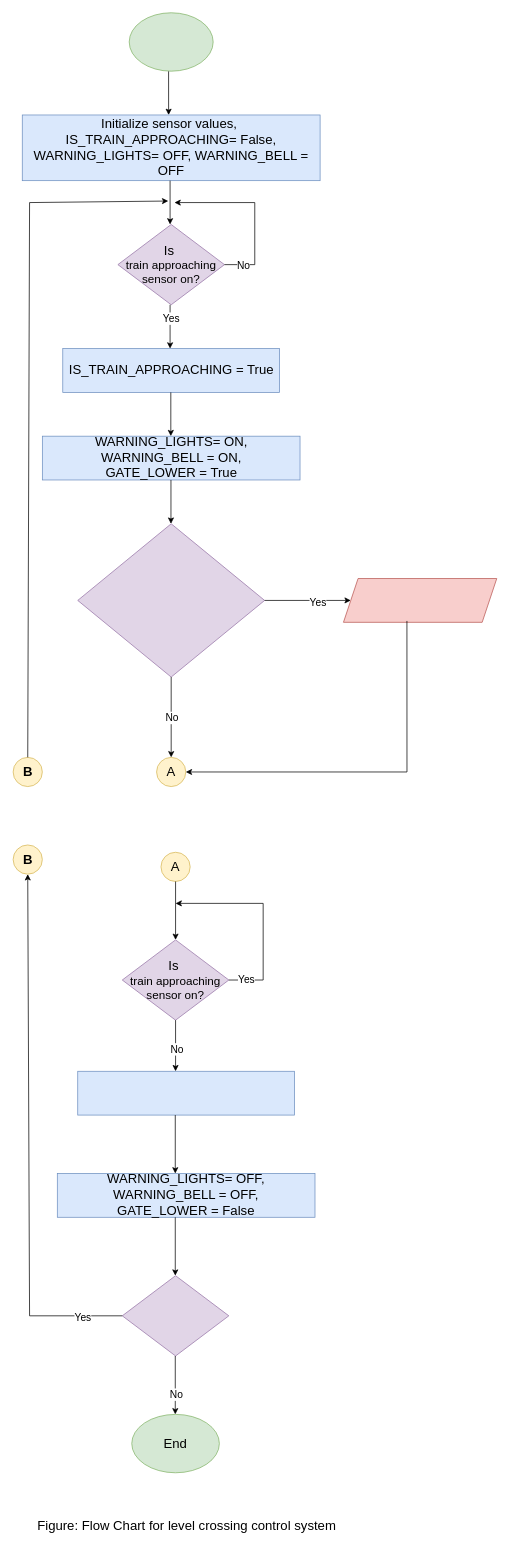
This 510x1553 diagram has some shape labels left out. The shapes that lost their labels are listed below. From the top down, each one's centre as x and y in pixels, then its label:
At point 170,41: "Start".
At point 171,600: "Is GATE_LOWER= True & VEHICLE_PRESENT = True ?".
At point 420,600: "Alert signal to the train".
At point 186,1093: "IS_TRAIN_APPROACHING = False".
At point 175,1315: "Continue?".
